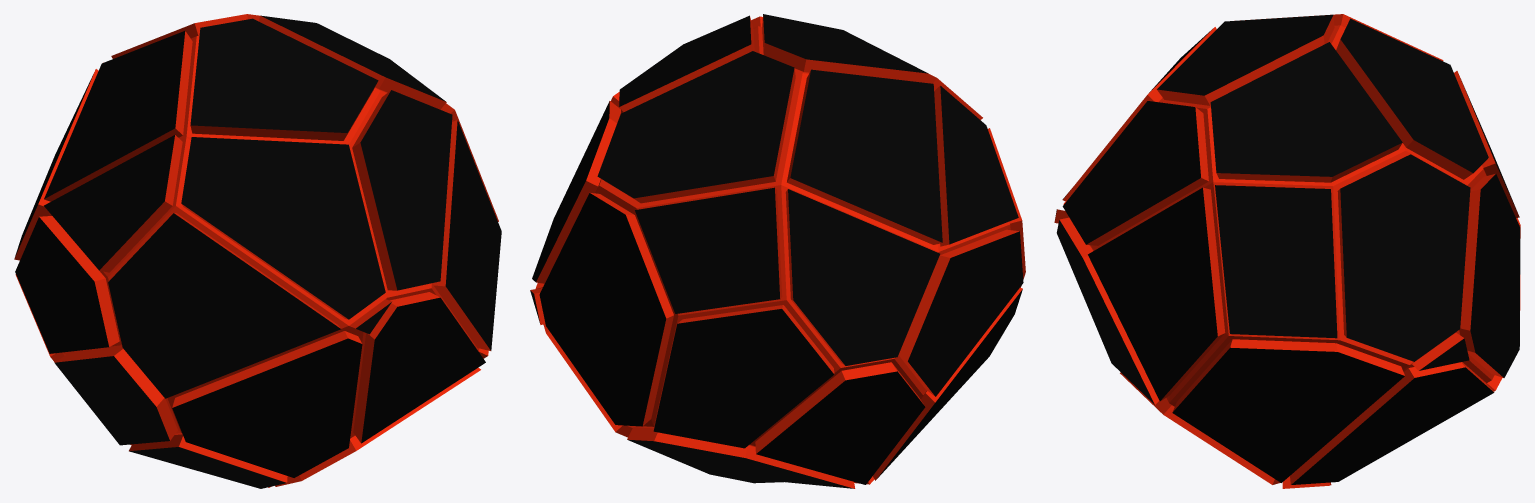
The model's file is bullet.fbx.
The picture shows the model from 3 angles, left to right: view 1: azimuth 30°, elevation 25°; view 2: azimuth 150°, elevation 25°; view 3: azimuth 270°, elevation 25°; orthographic projection. The views are drawn at different scales.
Visible parts, largest first — view 1: Icosphere.001; view 2: Icosphere.001; view 3: Icosphere.001.
Part boxes in pixels (x1,y1,x2,y2): Icosphere.001: [14, 14, 501, 488]; Icosphere.001: [530, 14, 1025, 488]; Icosphere.001: [1054, 14, 1520, 488].
Size of the model in its own units: 195 by 206 by 200.
